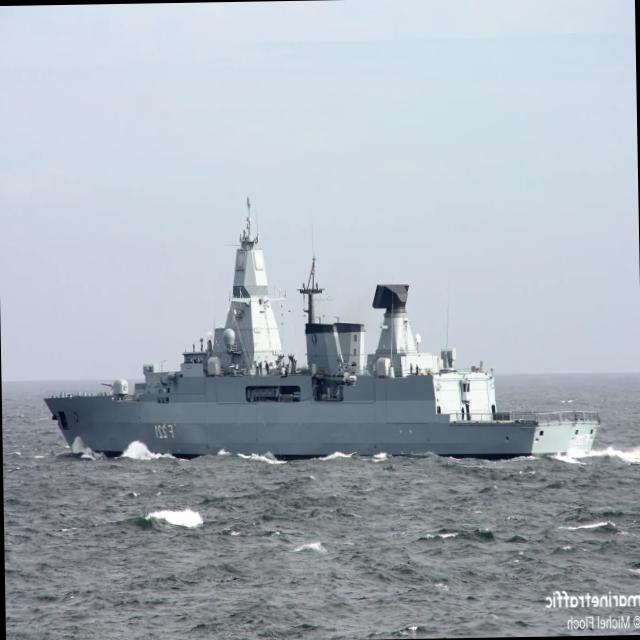Military: (45, 202, 599, 458)
